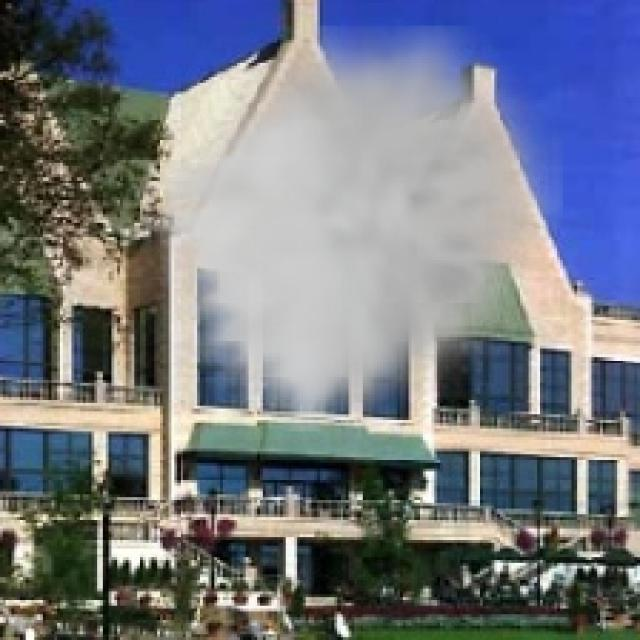smoke: (137, 26, 563, 431)
